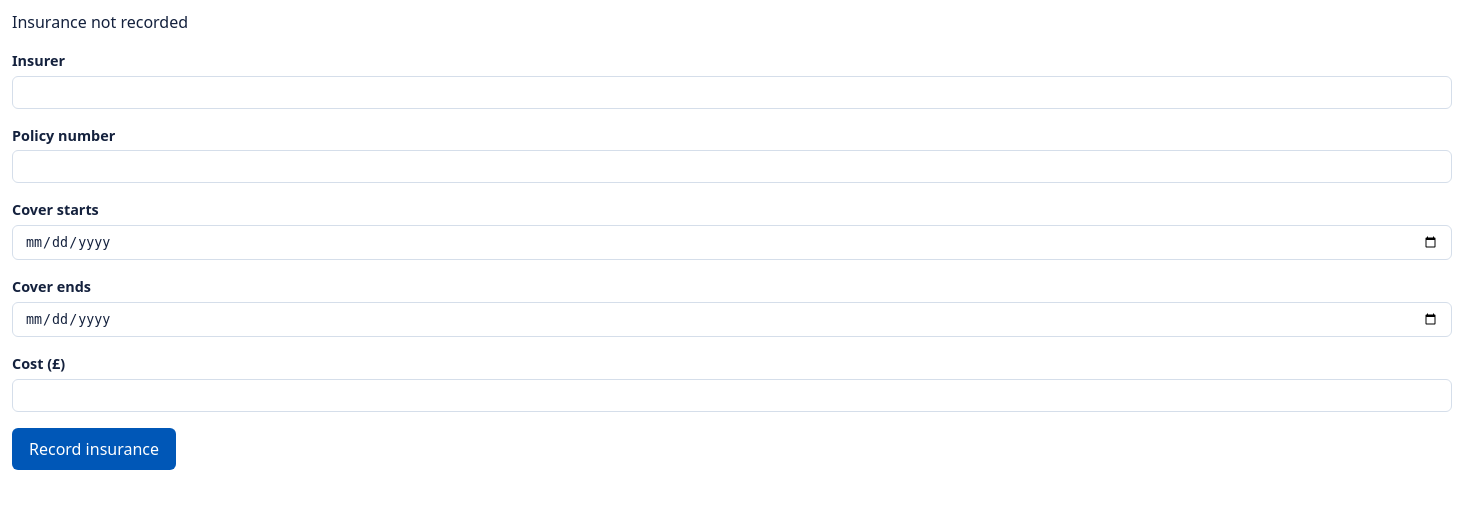
Test: cover that ends before it starts is refused before anything is sent
Type "Ukraine Aid Mutual" into the field labelled "Insurer".
click(732, 92); type("Ukraine Aid Mutual")  # box [12,76,1452,109]
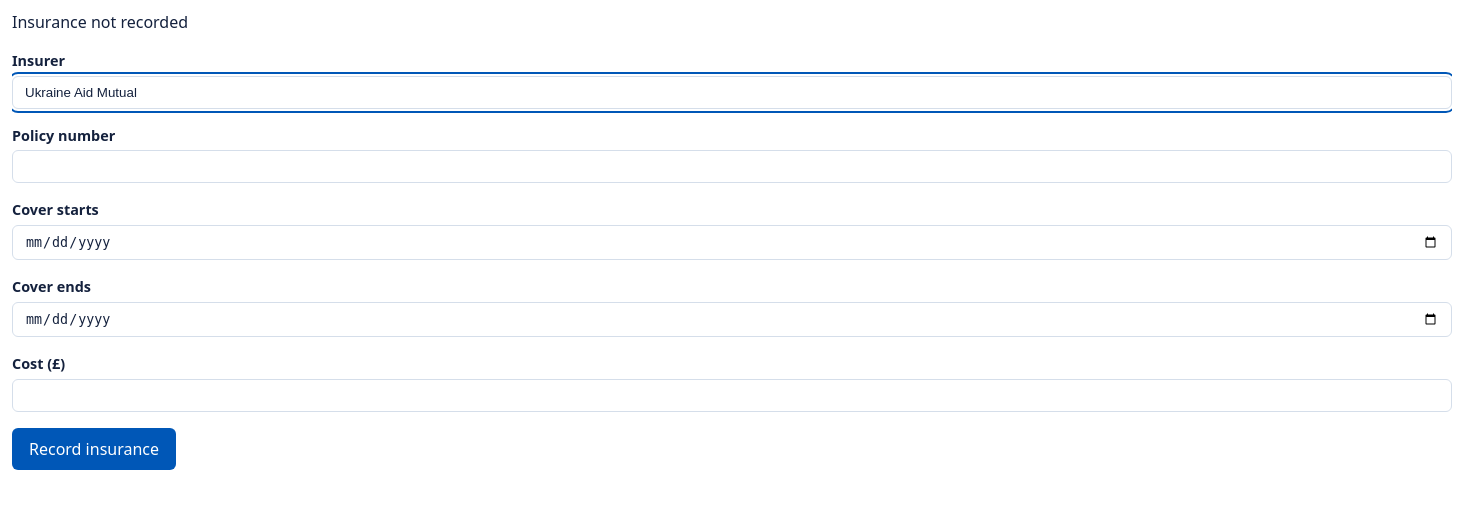
Type "POL-9" into the field labelled "Policy number".
click(732, 167); type("POL-9")  # box [12,150,1452,183]
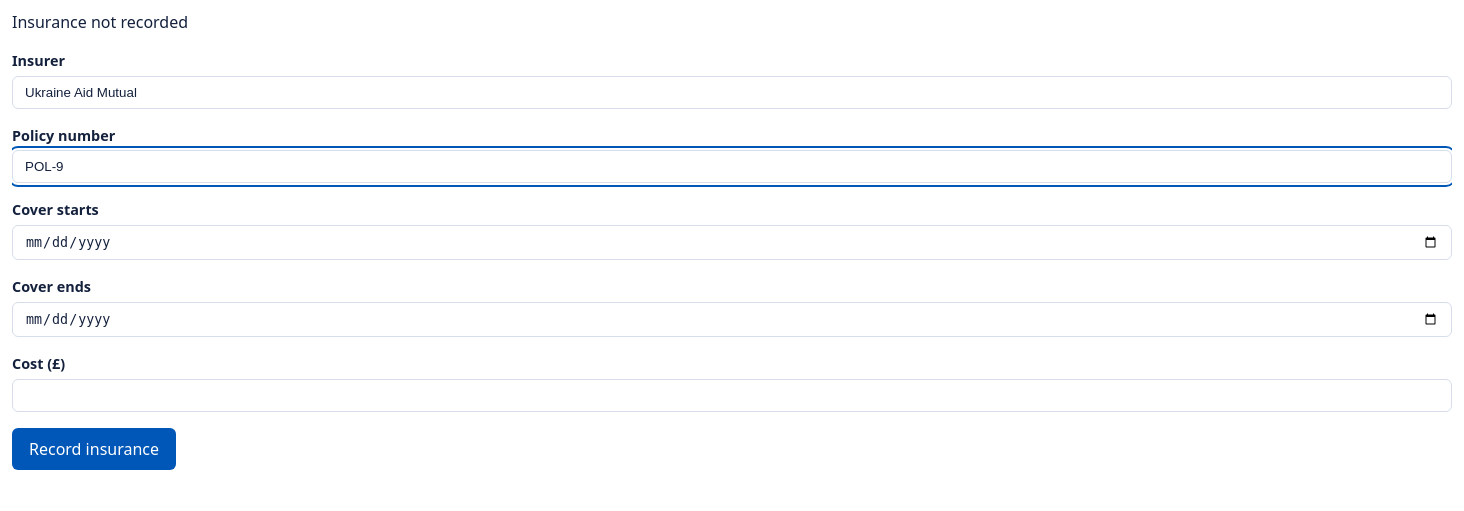
Type "2026-09-30" into the date field labelled "Cover starts".
click(732, 242); type("2026-09-30")  # box [12,225,1452,260]
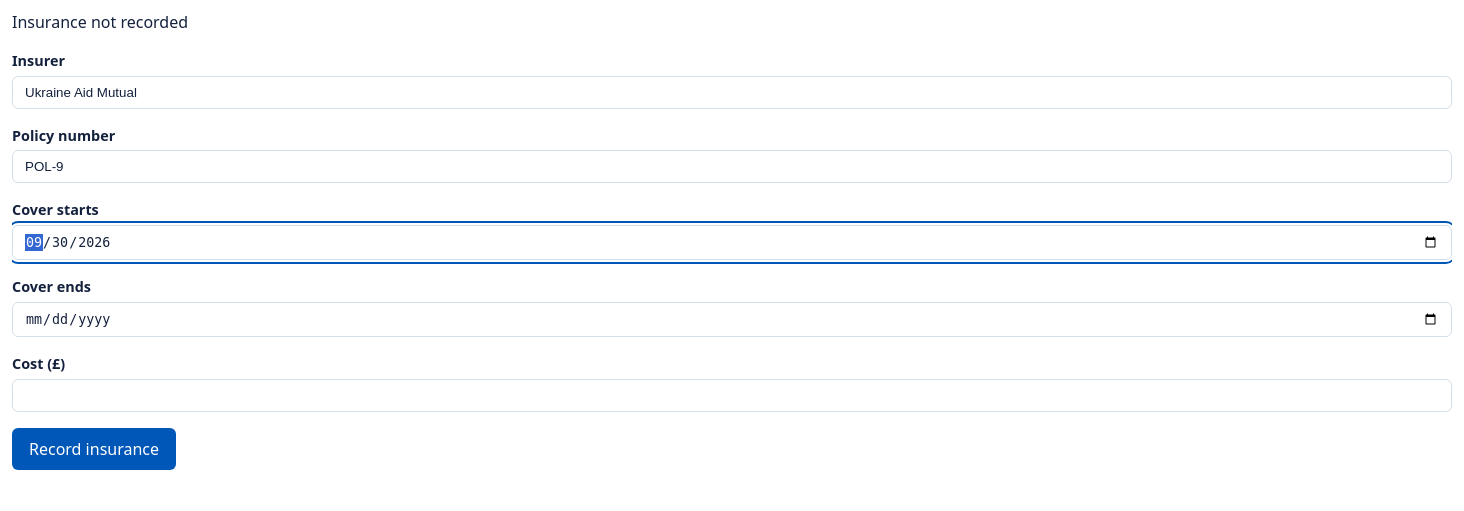
Type "2026-08-25" into the date field labelled "Cover ends".
click(732, 319); type("2026-08-25")  # box [12,302,1452,337]
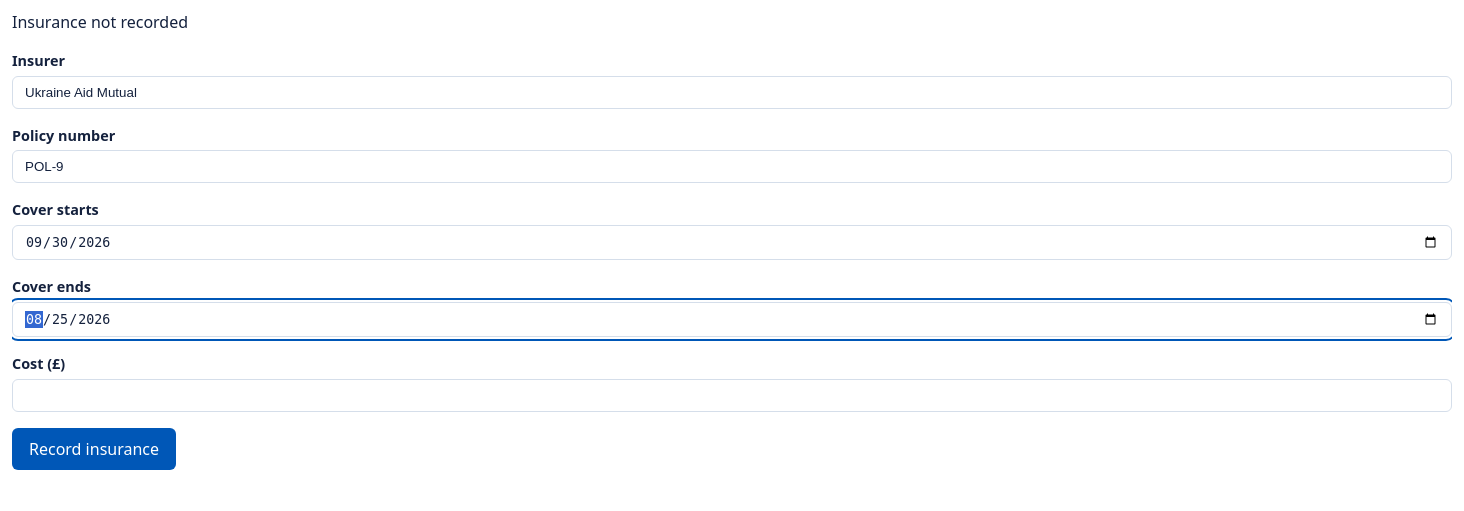
Click the button "Record insurance".
click(94, 449)  # box [12,428,176,470]
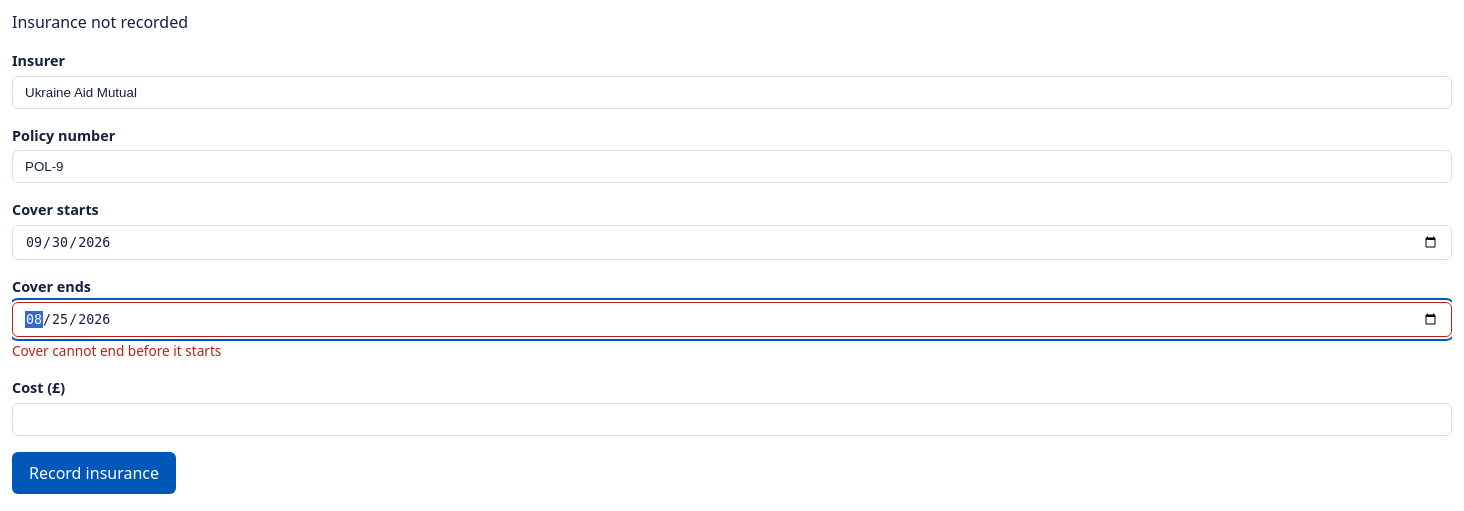
Result: the text "Cover cannot end before it starts" is shown at [12,341,221,360]
